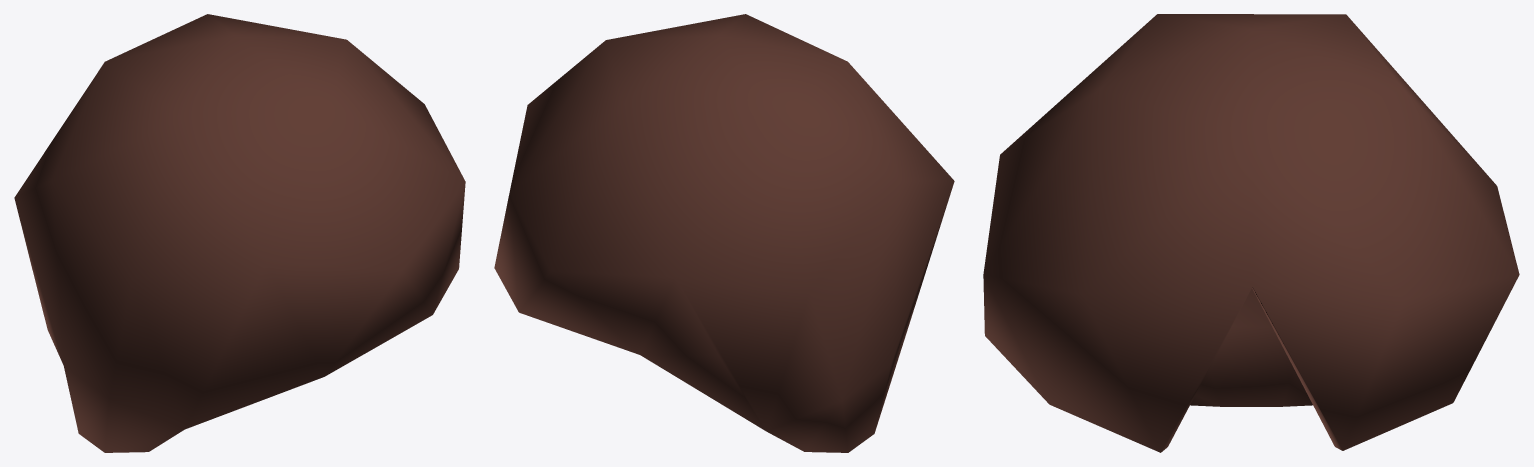
Rendered from LeoHair.glb.
The picture shows the model from 3 angles, left to right: view 1: azimuth 30°, elevation 25°; view 2: azimuth 150°, elevation 25°; view 3: azimuth 270°, elevation 25°; orthographic projection. The views are drawn at different scales.
Visible parts, largest first — view 1: LeoHair; view 2: LeoHair; view 3: LeoHair.
Part boxes in pixels (x1=…): LeoHair: x1=14, y1=14, x2=465, y2=452; LeoHair: x1=494, y1=14, x2=954, y2=452; LeoHair: x1=983, y1=14, x2=1519, y2=452.
Bounding box in the file's own units: 6.06 × 5.78 × 6.12.
